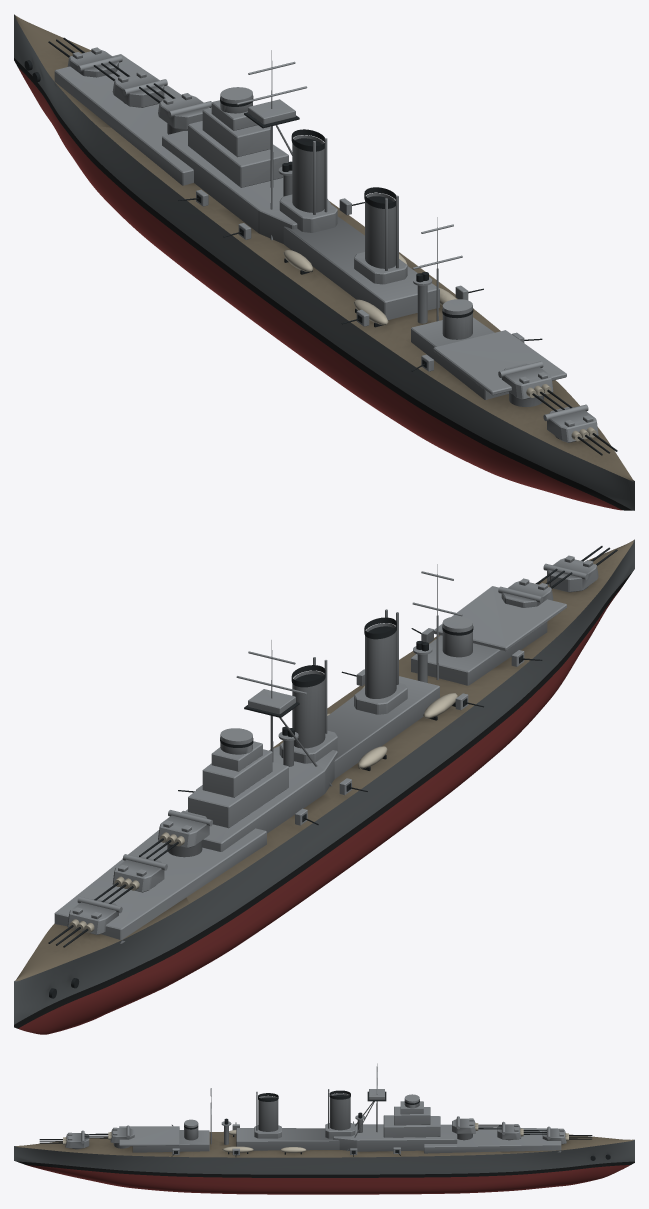
The model's file is uss-boise.glb.
The picture shows the model from 3 angles, top to bottom: view 1: azimuth 30°, elevation 25°; view 2: azimuth 150°, elevation 25°; view 3: azimuth 270°, elevation 25°; orthographic projection. The views are drawn at different scales.
Parts seen in each view (by area): view 1: uss-boise; view 2: uss-boise; view 3: uss-boise.
Part boxes in pixels (x1,y1,x2,y2): uss-boise: [14, 14, 634, 510]; uss-boise: [14, 539, 634, 1034]; uss-boise: [14, 1063, 634, 1194].
Size of the model in its own units: 24.81 by 40.3 by 185.
